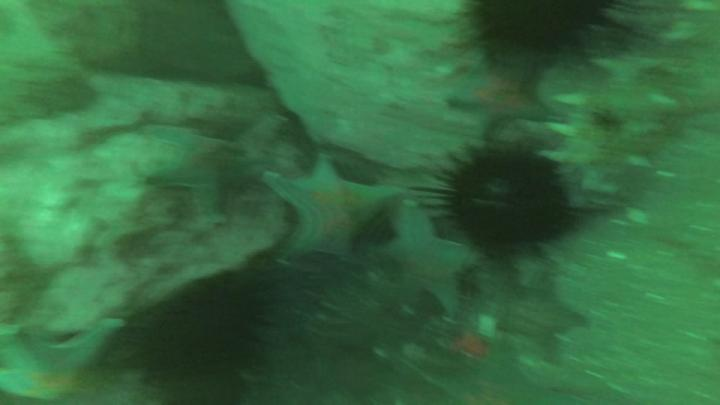echinus: (135, 272, 268, 393), (459, 151, 568, 251), (469, 3, 616, 56)
holothurian: (564, 49, 697, 172)
starfish: (266, 156, 399, 257), (141, 126, 266, 224), (1, 312, 122, 405), (375, 202, 477, 308), (449, 65, 556, 140), (503, 272, 582, 360)
